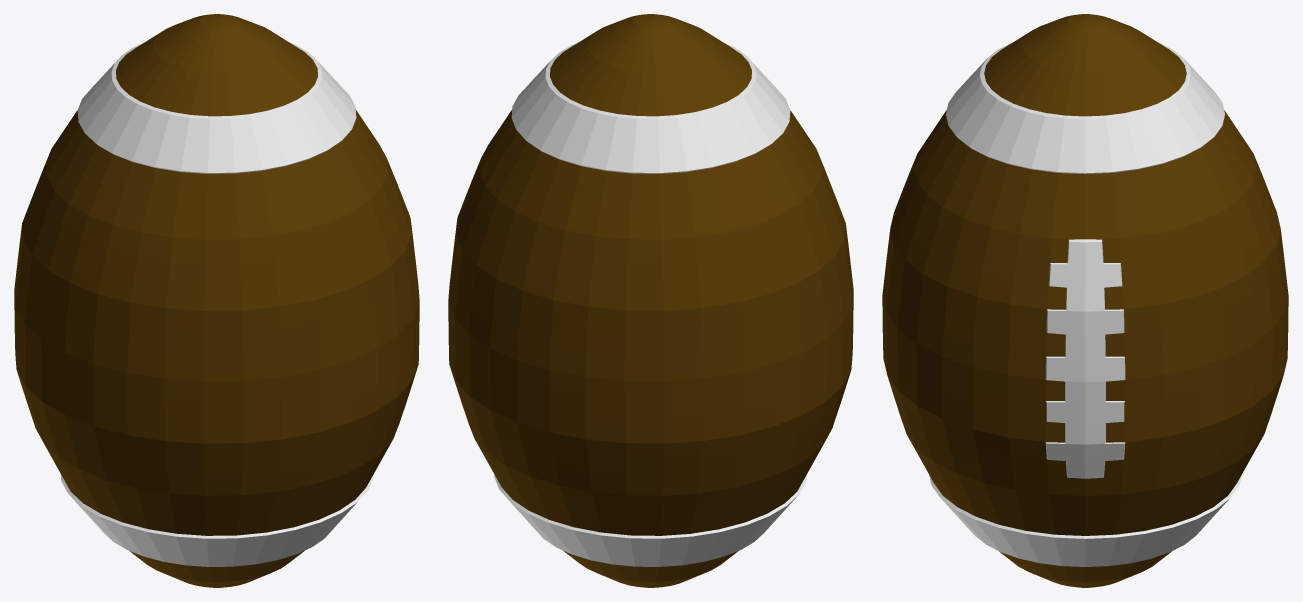
File: football.fbx
3 renders of one model, left to right at view 1: azimuth 30°, elevation 25°; view 2: azimuth 150°, elevation 25°; view 3: azimuth 270°, elevation 25°, orthographic.
Parts seen in each view (by area): view 1: Sphere; view 2: Sphere; view 3: Sphere.
Boxes of the visible parts, <box> form: Sphere: <box>14,14,419,587</box>; Sphere: <box>448,14,853,587</box>; Sphere: <box>882,14,1288,587</box>.
Size of the model in its own units: 193 by 293 by 192.
